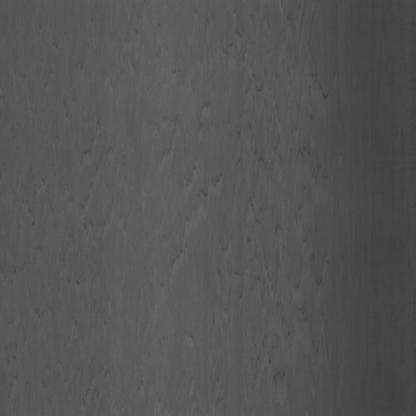silk_spot: (165, 71, 279, 314), (284, 39, 350, 352)
